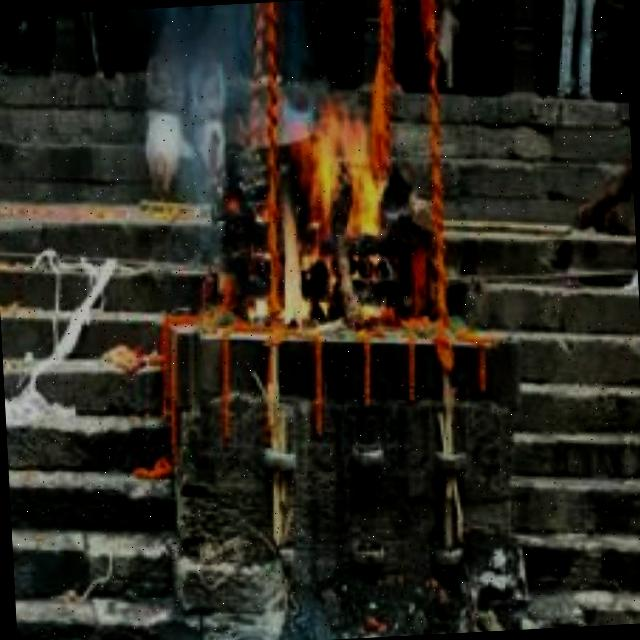fire: (266, 79, 394, 337)
